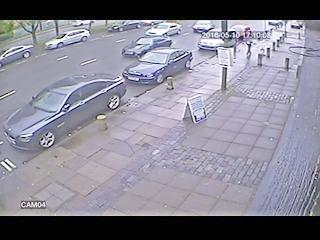Car: (8, 71, 126, 150), (123, 47, 193, 85), (121, 35, 172, 58), (198, 28, 238, 53), (45, 29, 90, 49), (1, 44, 34, 68), (145, 22, 182, 37), (107, 20, 142, 32), (229, 24, 252, 39), (193, 20, 215, 34), (71, 20, 94, 27), (140, 20, 164, 26), (268, 20, 284, 27), (290, 21, 302, 29)
Motor: (121, 34, 193, 87)
